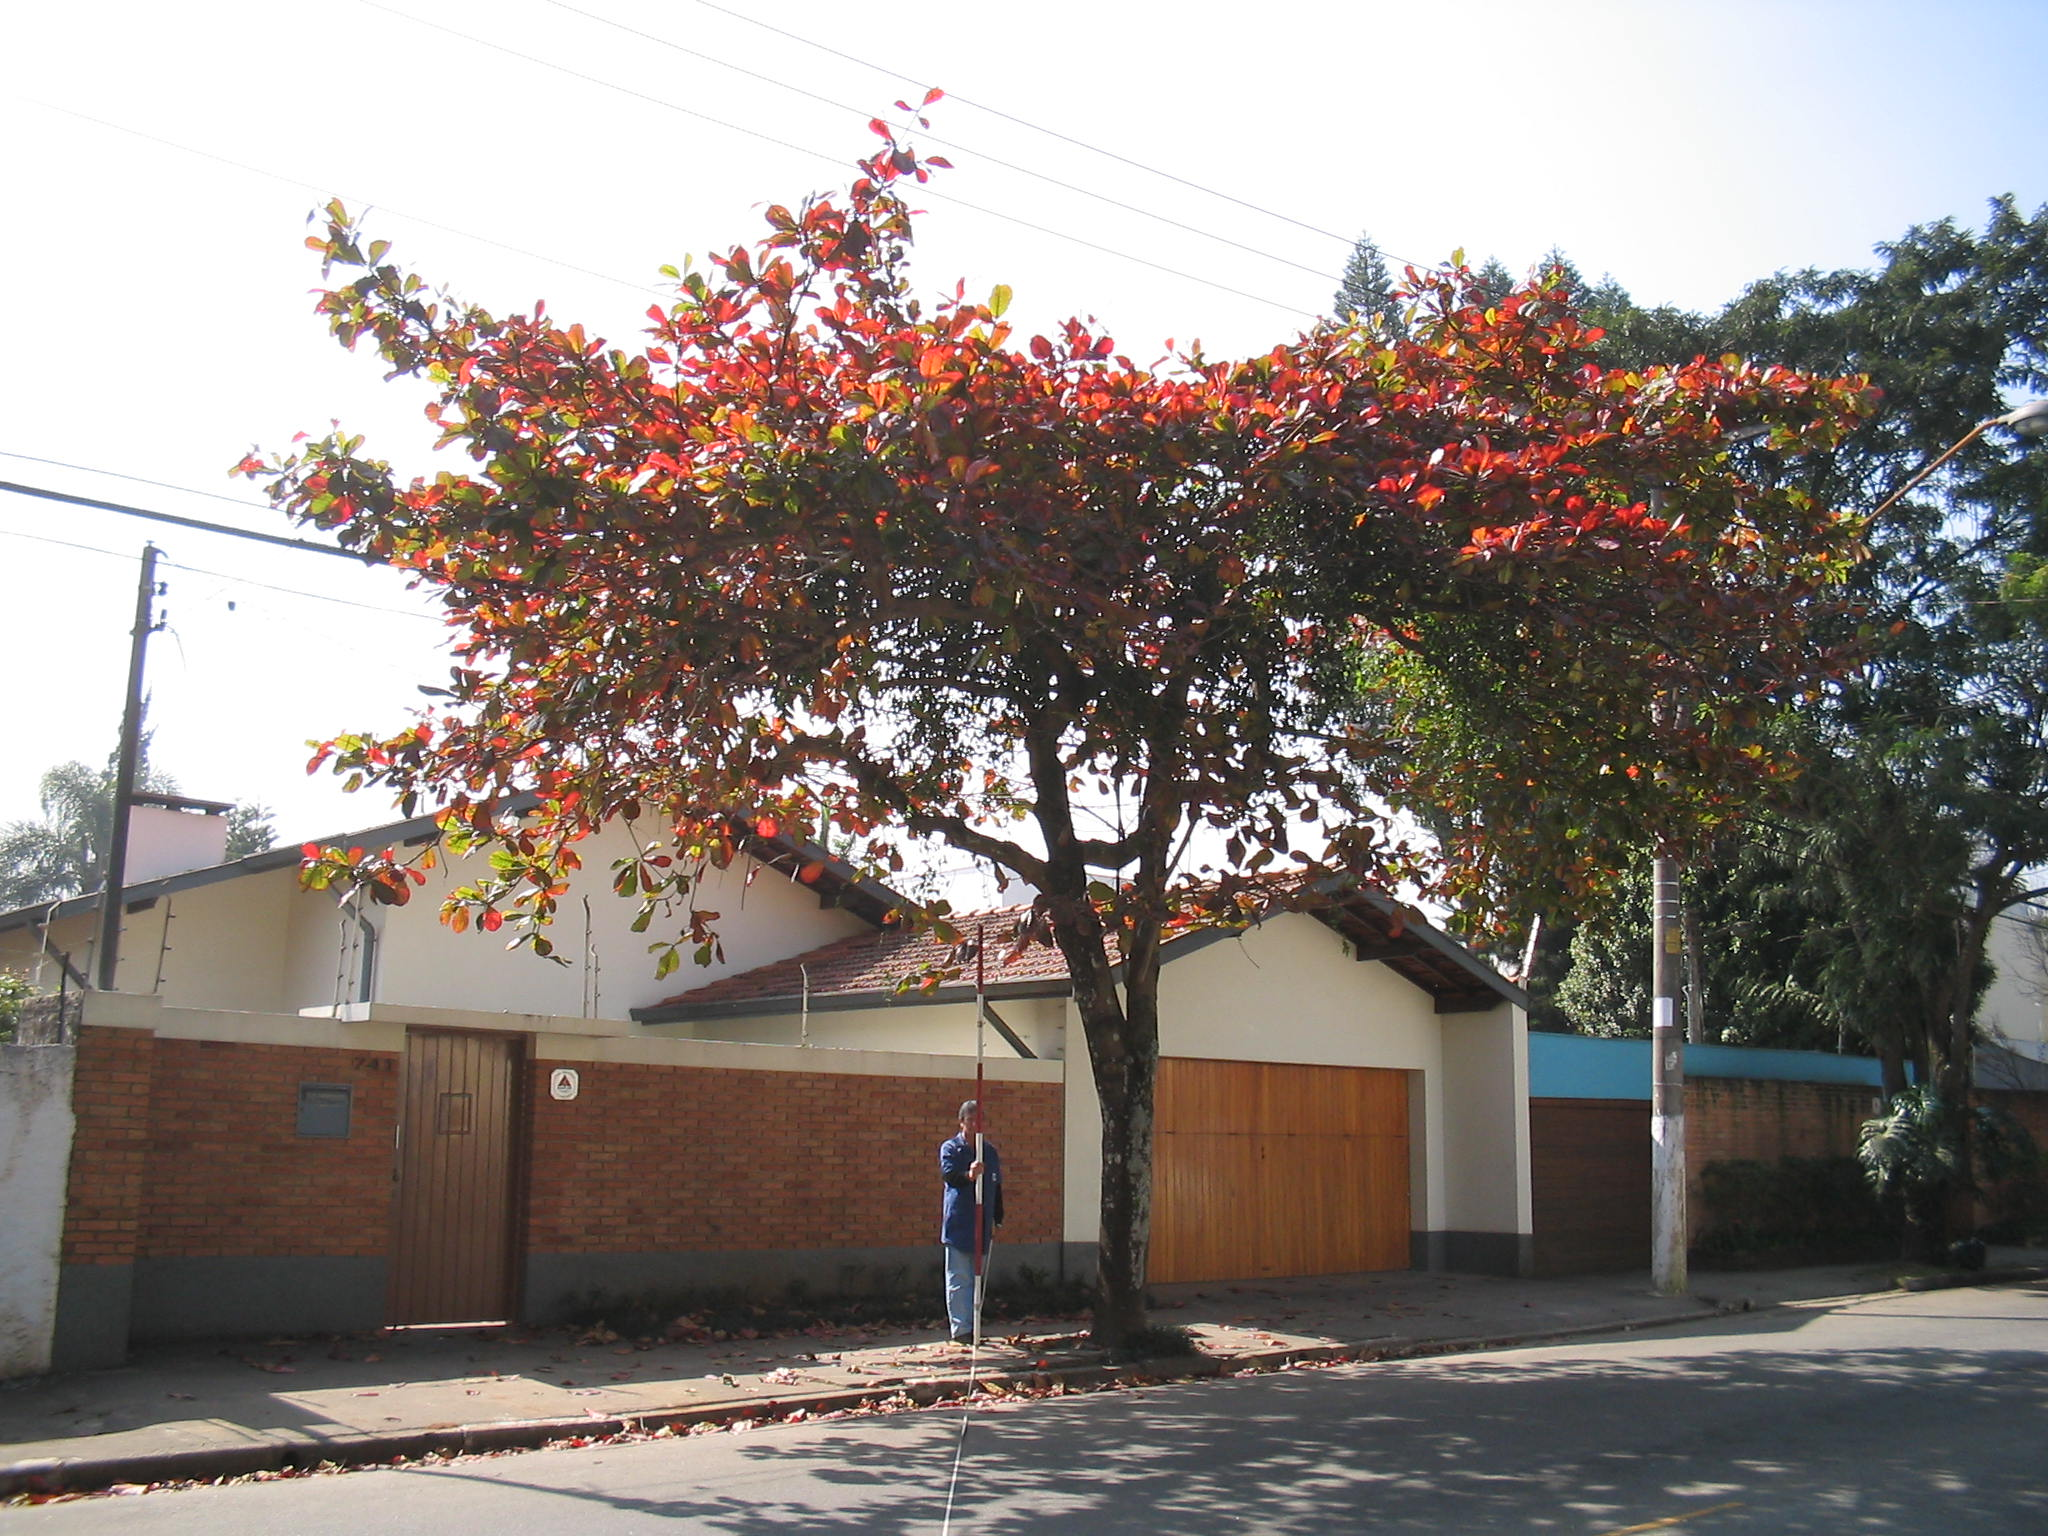crown: (223, 77, 1916, 1012)
stem: (1056, 1055, 1214, 1346)
stick: (951, 926, 1021, 1344)
tree: (219, 69, 1922, 1352)
